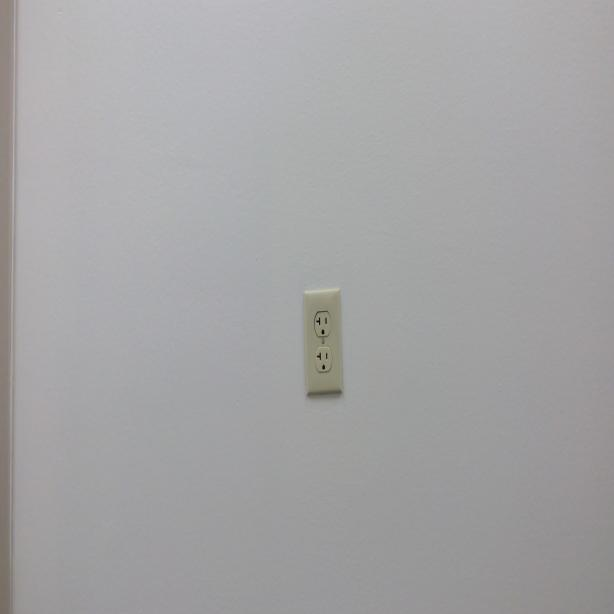typeb: (314, 312, 332, 340), (316, 346, 333, 372)
